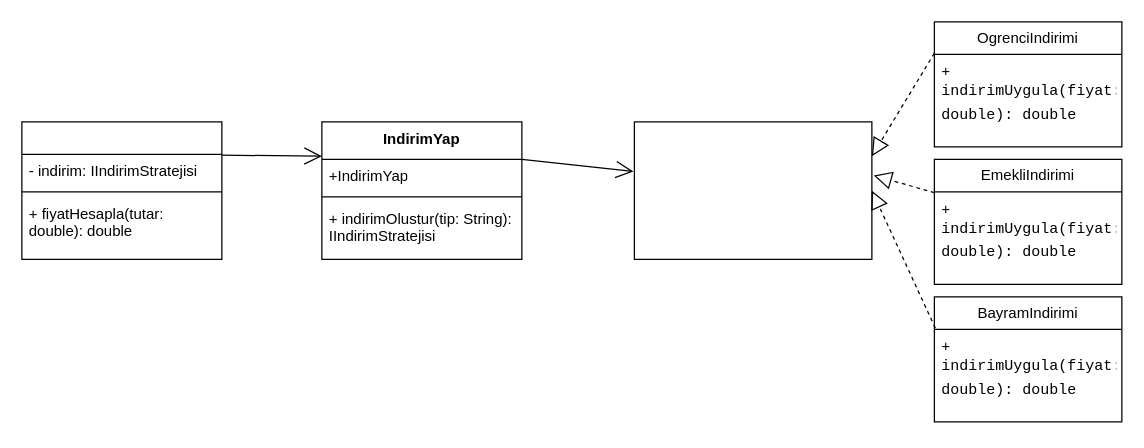
The diagram is 1144 pixels wide and 448 high, and some of its shapes have lost their labels. Here are the shapes that lost their labels. From the top down, the box of each, then its label:
(21, 121, 222, 259): Sepet
(633, 121, 872, 259): <<Interface>> IindirimStratejisi + indirimUygula(fiyat: double): double
